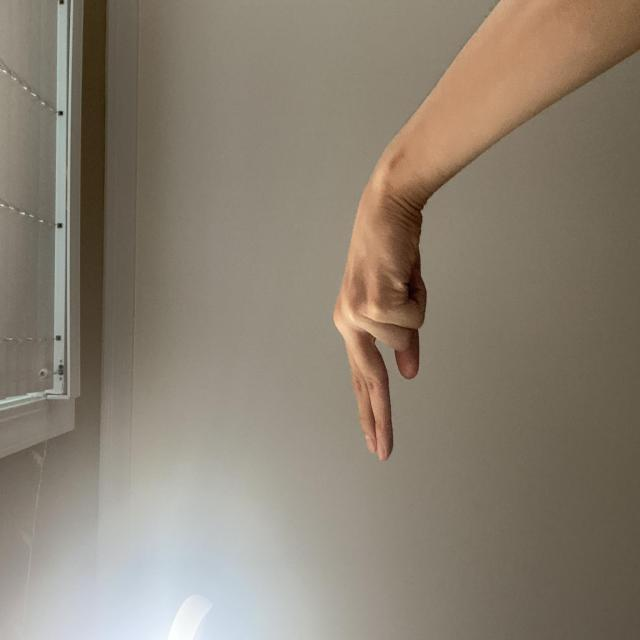H: (131, 441, 376, 582)
